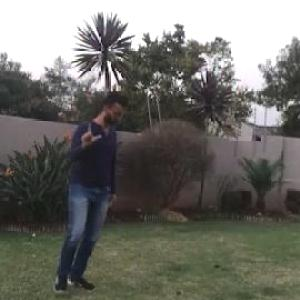land_hand: (76, 119, 106, 151)
